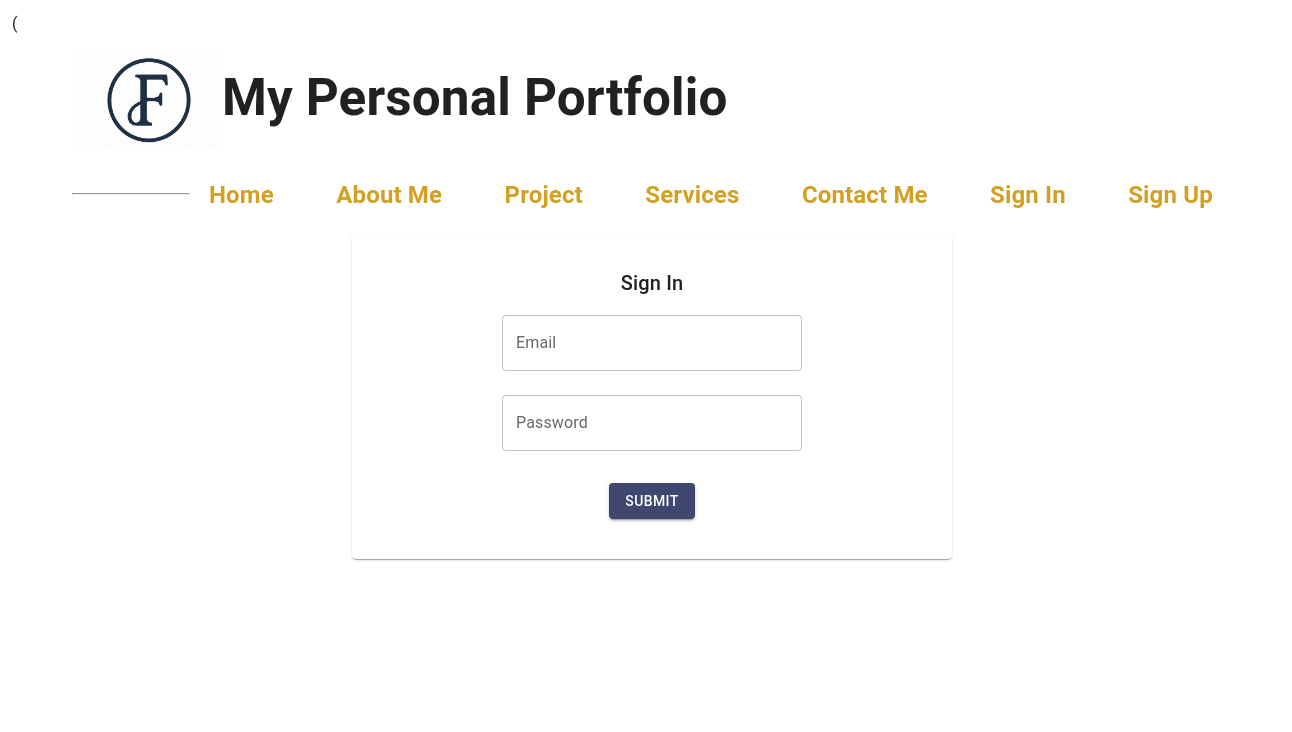
Sign In Page E2E Tests › should show error for invalid credentials
Note: Fill and submit form
Type "invalid@email.com" into the field with id "email".
click(652, 343); type("invalid@email.com")  # box [502,315,802,371]
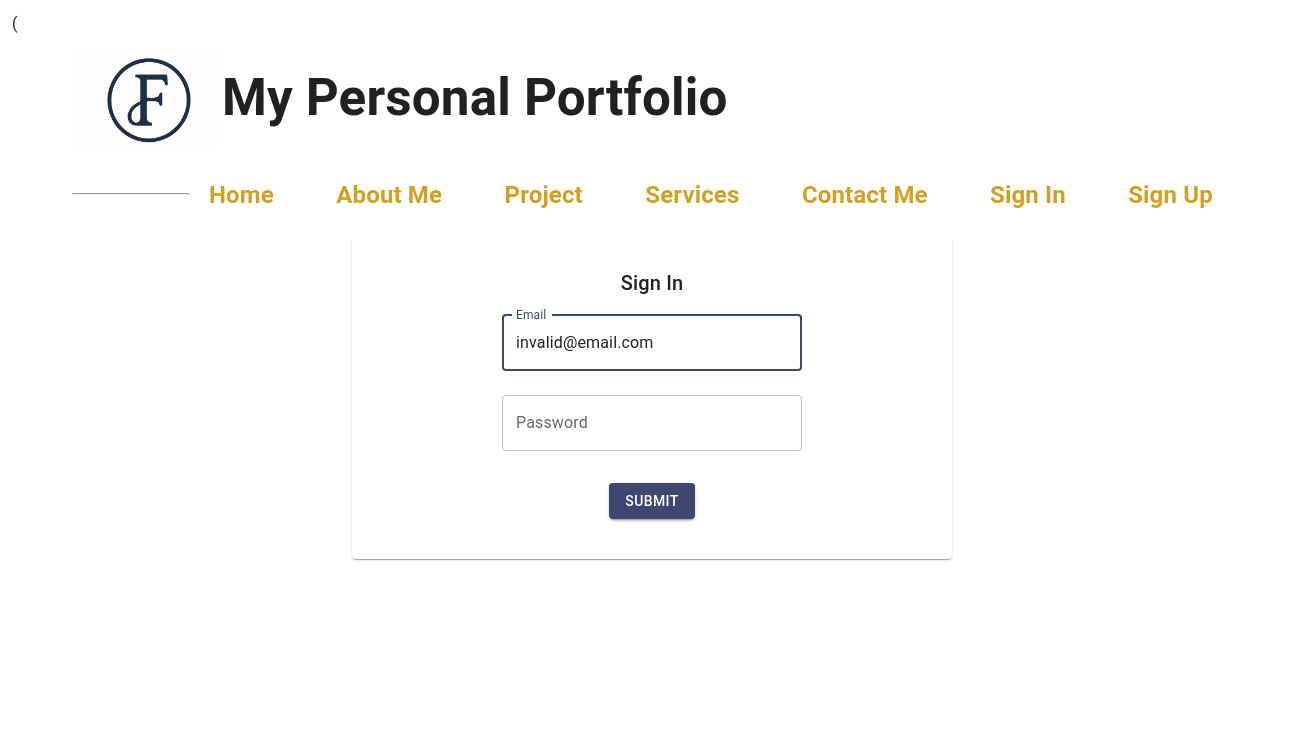
Type "wrongpassword" into the password field labelled "Password".
click(652, 423); type("wrongpassword")  # box [502,395,802,451]
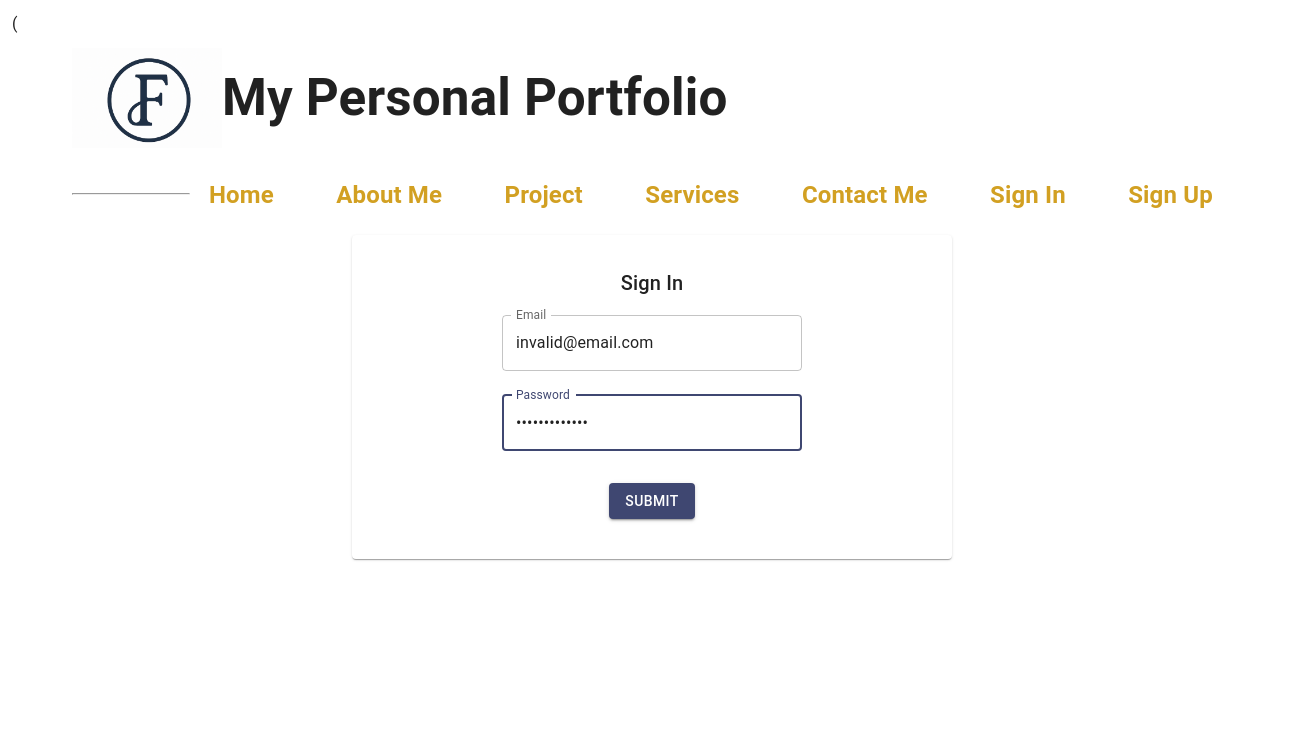
Click the button "Submit".
click(652, 502)  # box [609,483,694,520]
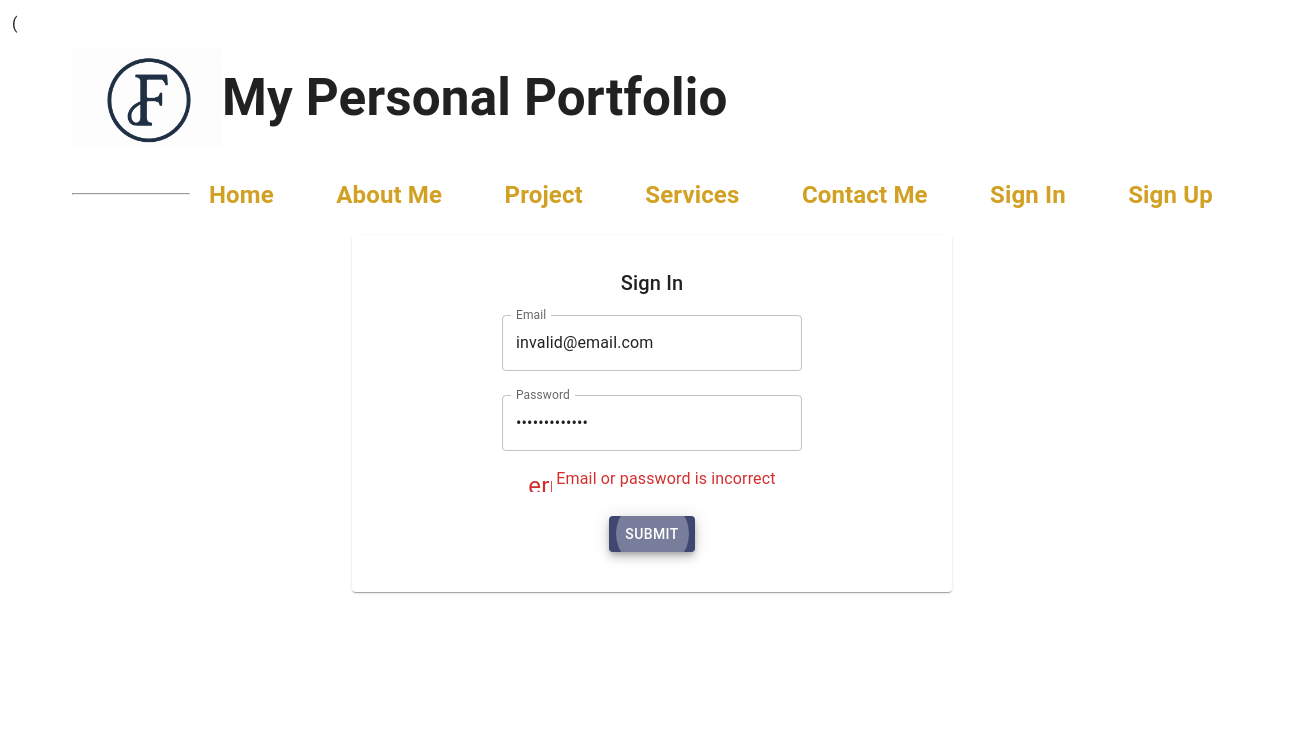
Result: the text "Email or password is incorrect" is shown at [556,469,775,488]
